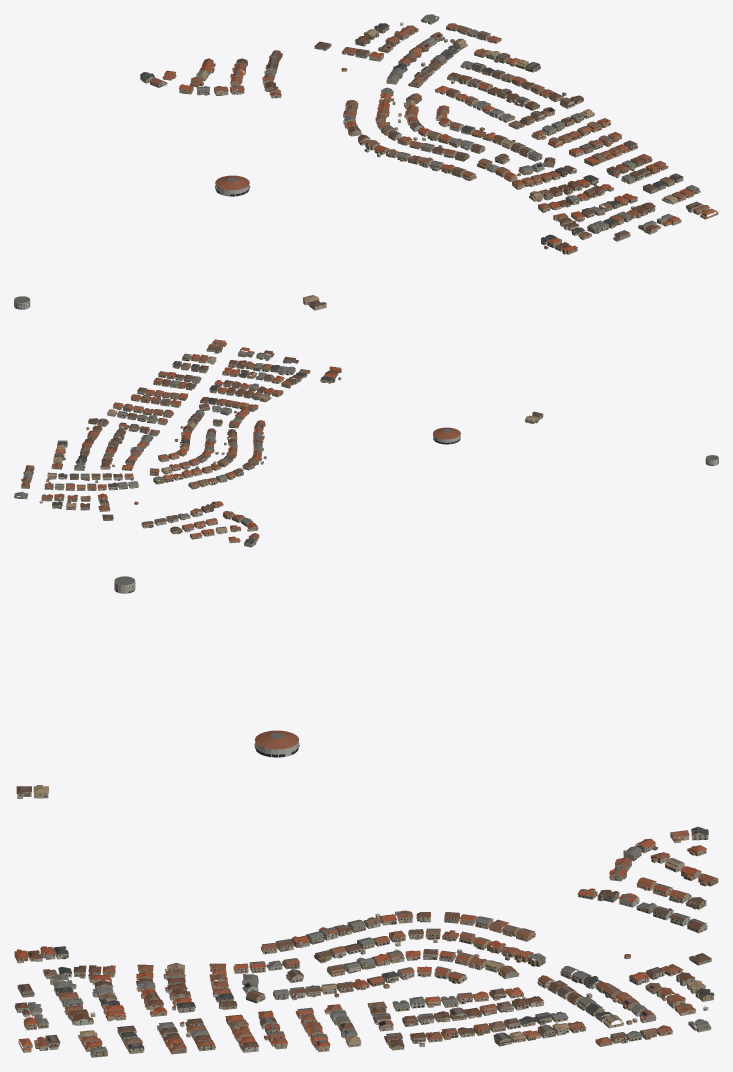
3 renders of one model, top to bottom at view 1: azimuth 30°, elevation 25°; view 2: azimuth 150°, elevation 25°; view 3: azimuth 270°, elevation 25°, orthographic. The views are drawn at different scales.
Visible parts, largest first — view 1: buildings_r1_c4_lod0; view 2: buildings_r1_c4_lod0; view 3: buildings_r1_c4_lod0.
Boxes of the visible parts, x1=… form: buildings_r1_c4_lod0: x1=14, y1=14, x2=718, y2=310; buildings_r1_c4_lod0: x1=14, y1=339, x2=718, y2=547; buildings_r1_c4_lod0: x1=14, y1=576, x2=718, y2=1057.
Bounding box in the file's own units: 1142 × 93.42 × 805.
